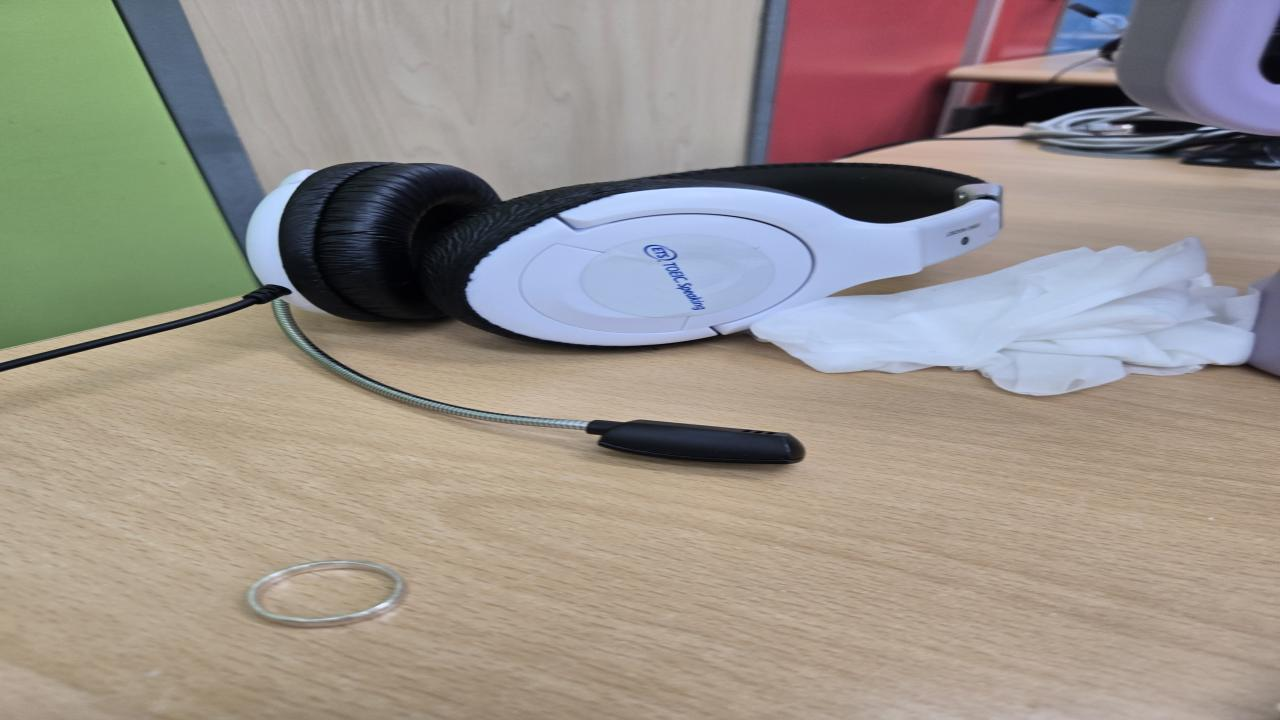ring: (242, 558, 408, 630)
